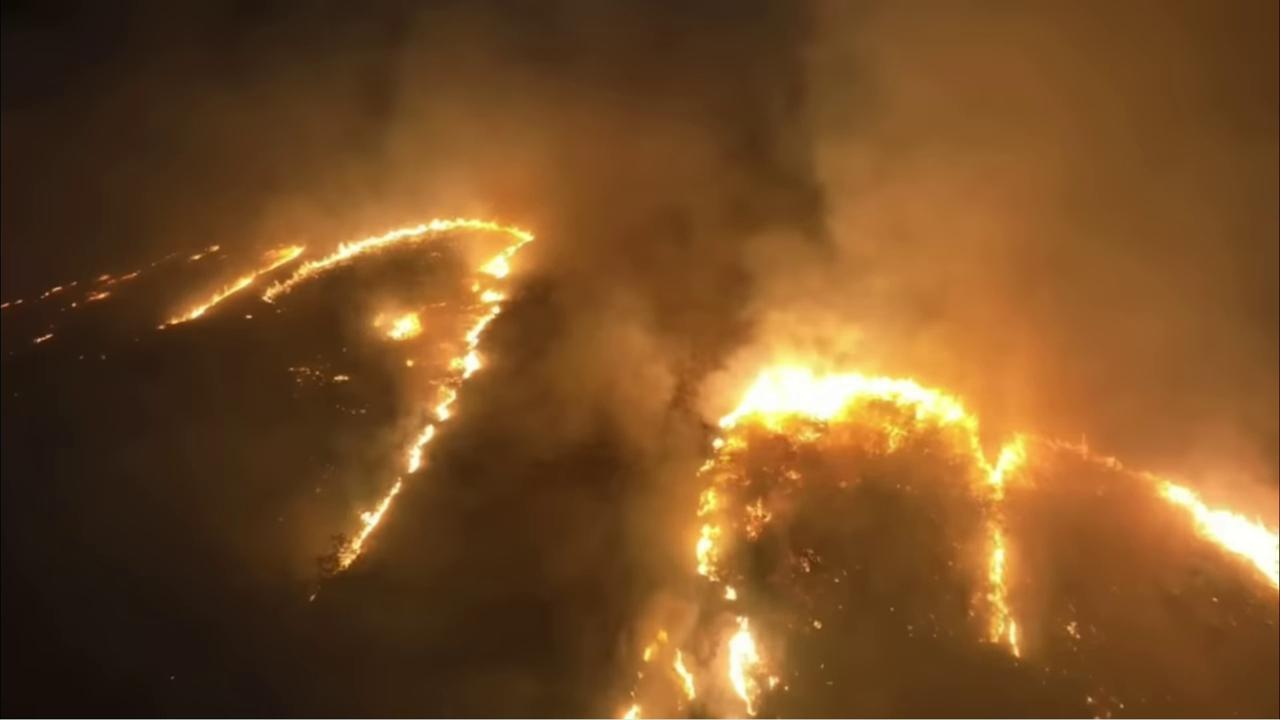fire: (695, 352, 1280, 720), (151, 214, 547, 595), (618, 624, 696, 720), (371, 298, 447, 345), (92, 268, 143, 286), (82, 290, 112, 305), (39, 285, 64, 299), (31, 332, 55, 344), (333, 374, 350, 383), (405, 357, 414, 368), (0, 301, 11, 309), (15, 298, 26, 305)
smoke: (0, 0, 1280, 720)
